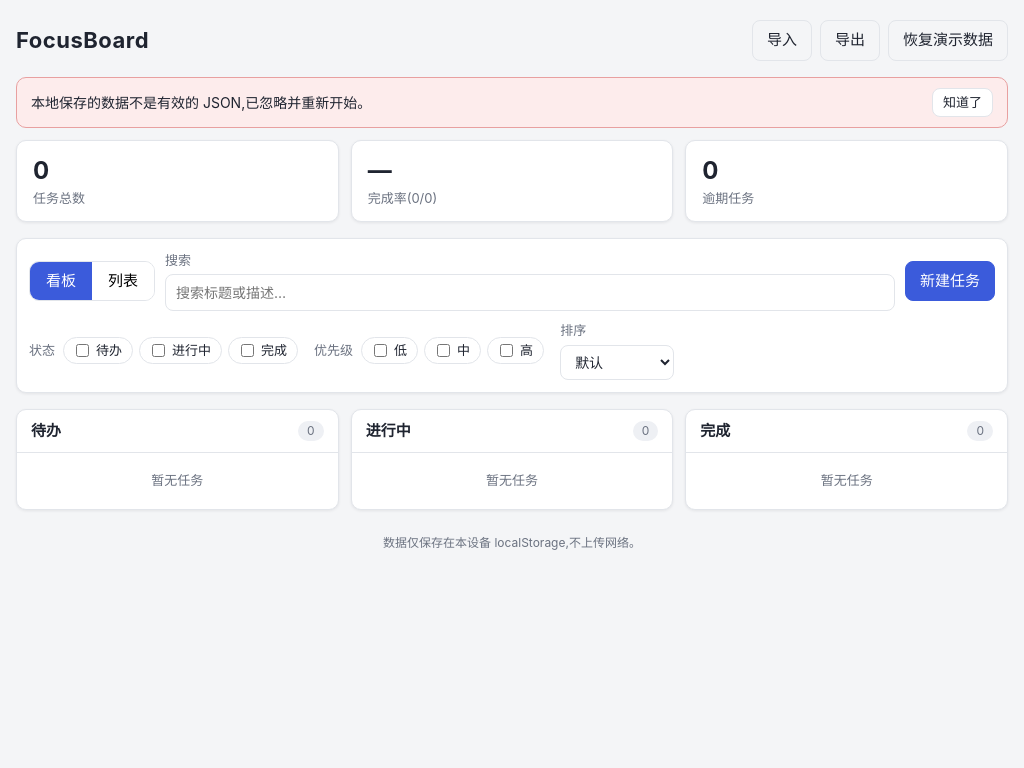
Test case: 持久化与损坏数据 › 非法 JSON 不白屏:警告条 + 可继续操作
The image size is (1024, 768).
Expected: the message shows "不是有效的 JSON", [31,94,371,111]
Expected: the button "新建任务" is enabled, [905,260,995,301]
Step 1. Click the button "知道了" → point(962, 102), box [932,88,993,117]
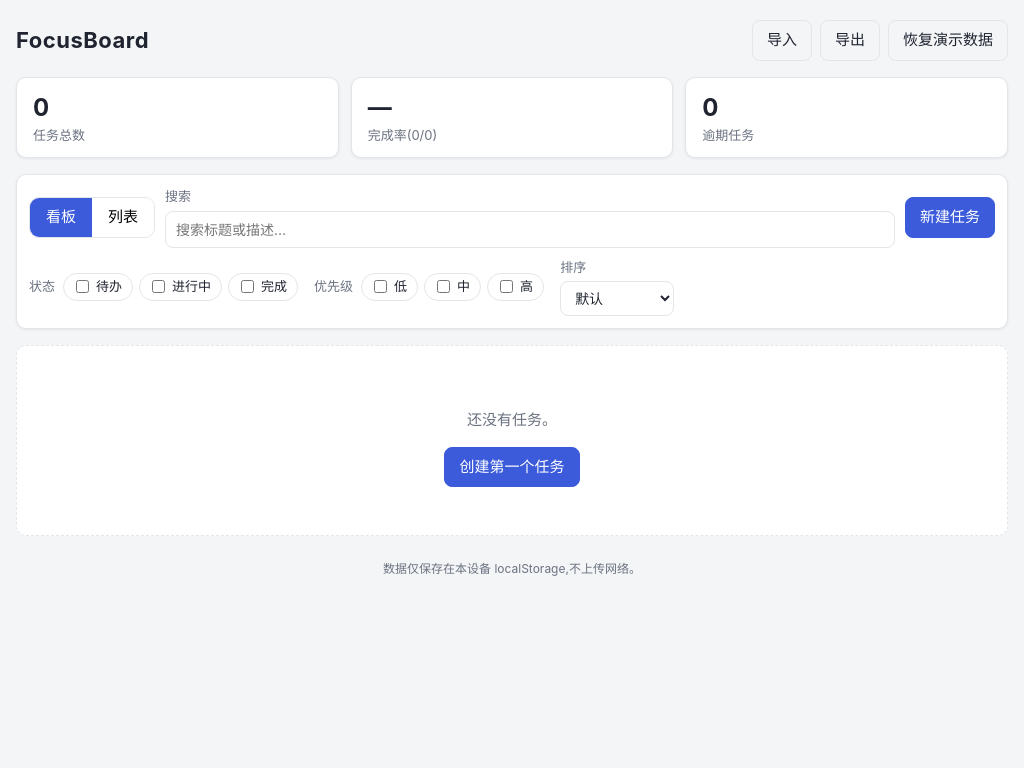
Expected: the text "还没有任务。" is shown, [467,410,557,429]
